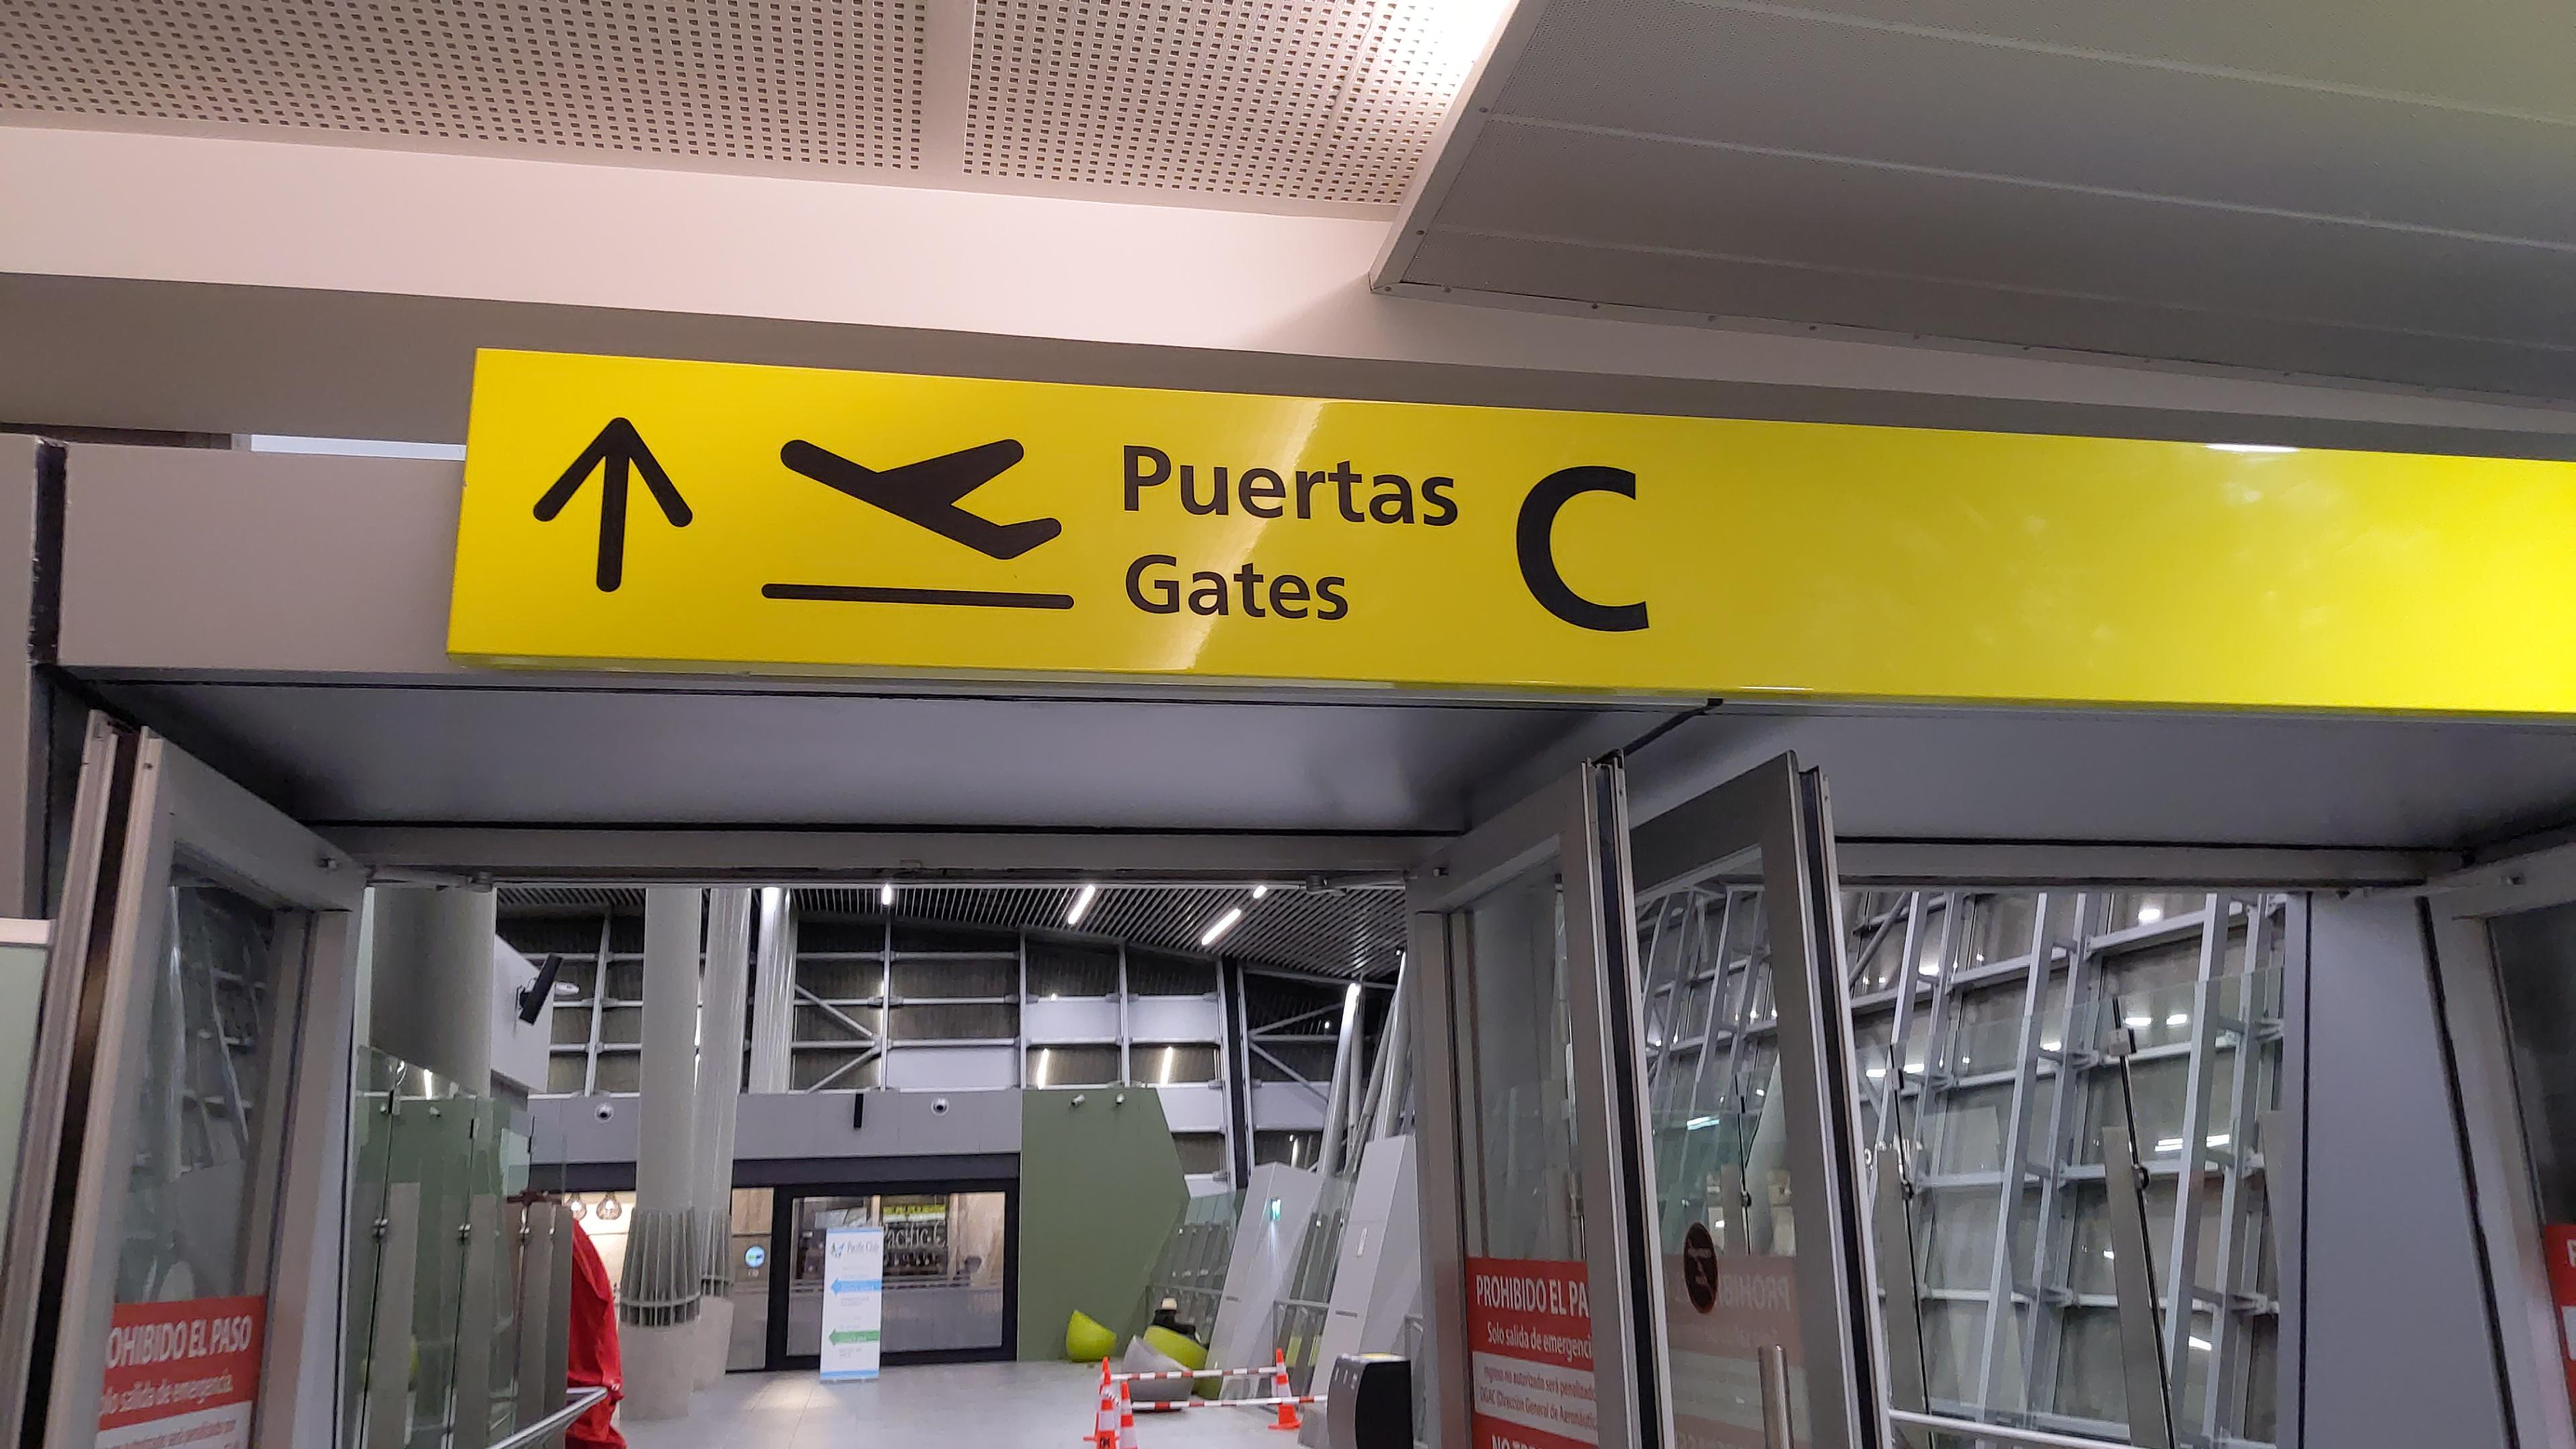airplane symbol: (775, 426, 1065, 573)
thin up arrow: (529, 410, 697, 600)
